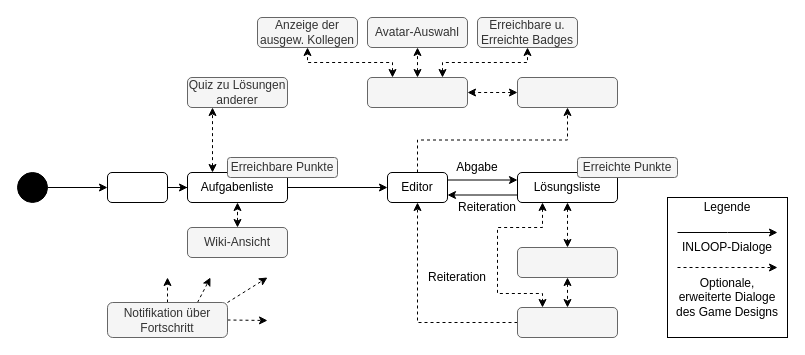
Image size: 805x355. Some labels were removed from this diagram. The shapes that lost their labels are listed below. From the top down, each one's box as (x1, y1, x2, y2) in pixels, then its label:
(366, 76, 468, 108): Fortschrittsansicht
(516, 76, 618, 108): Progressive Leaderboards
(106, 172, 168, 202): Login
(516, 246, 618, 278): Warteraum
(516, 306, 618, 338): Konsultation
